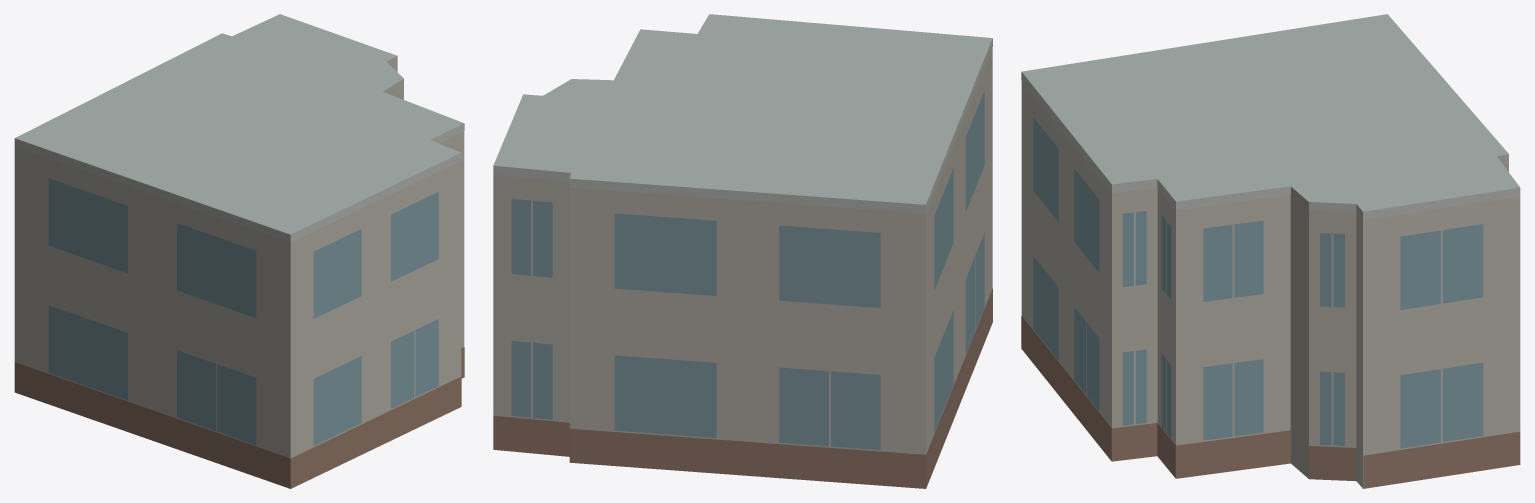
Rendered from survey-upis-32902600.glb.
The picture shows the model from 3 angles, left to right: view 1: azimuth 30°, elevation 25°; view 2: azimuth 150°, elevation 25°; view 3: azimuth 270°, elevation 25°; orthographic projection. The views are drawn at different scales.
Visible parts, largest first — view 1: survey-upis-32902600.tmp; view 2: survey-upis-32902600.tmp; view 3: survey-upis-32902600.tmp.
Part boxes in pixels (x1,y1,x2,y2): survey-upis-32902600.tmp: (14, 14, 464, 488); survey-upis-32902600.tmp: (493, 14, 992, 488); survey-upis-32902600.tmp: (1021, 14, 1520, 488).
Bounding box in the file's own units: 11.95 × 7.8 × 12.74.
